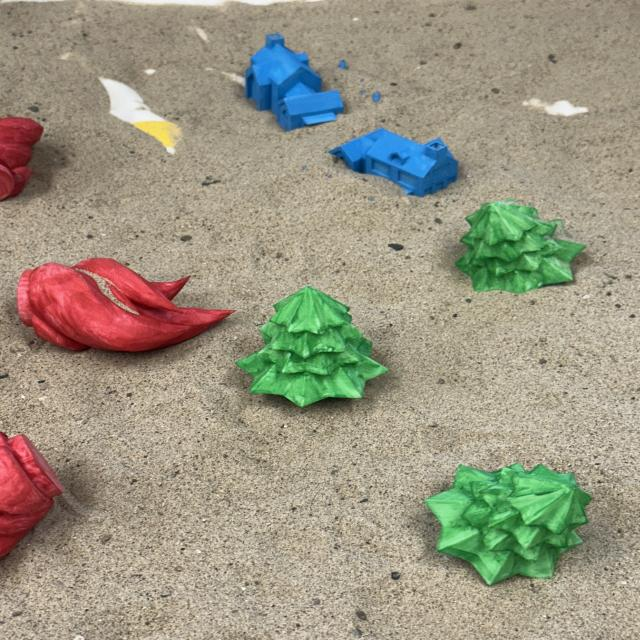fire: (15, 255, 236, 354), (0, 426, 68, 560), (0, 114, 49, 202)
house: (242, 31, 346, 132), (327, 126, 460, 198)
tree: (423, 461, 592, 586), (235, 284, 389, 408), (454, 199, 587, 294)
